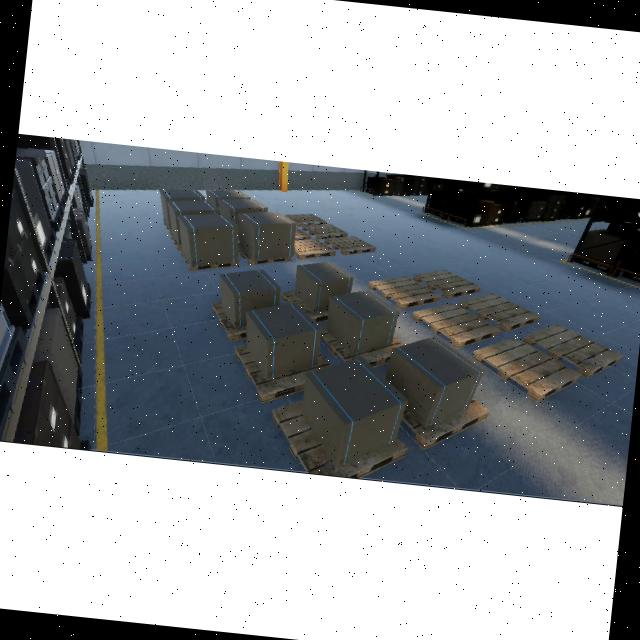wooden_pallet: (270, 400, 408, 478), (471, 336, 585, 403), (234, 342, 333, 404), (520, 322, 623, 378), (400, 393, 490, 452), (411, 302, 501, 350), (458, 292, 543, 333), (366, 275, 442, 308), (412, 268, 481, 297), (210, 298, 248, 341), (179, 250, 241, 271), (237, 245, 293, 265), (324, 236, 377, 255), (293, 238, 335, 259), (300, 223, 348, 240), (283, 213, 325, 227), (295, 227, 311, 239)
